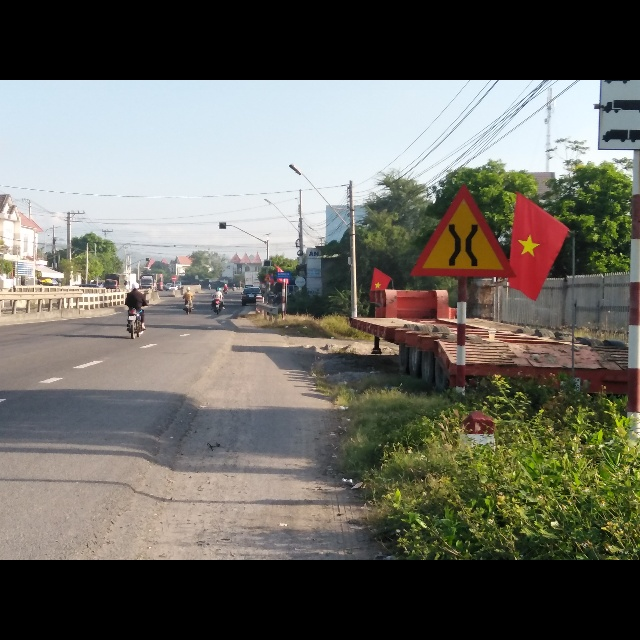Cầu hẹp: (412, 187, 517, 281)
